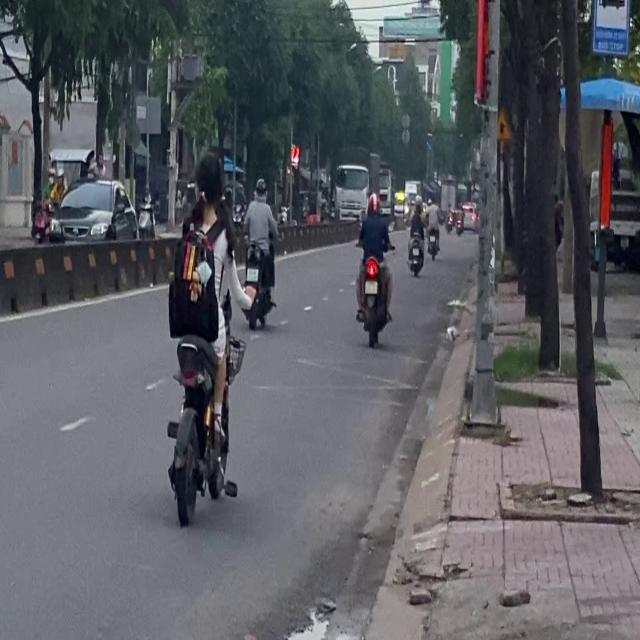licenseplate: (162, 143, 247, 529)
motorcyclist: (193, 151, 224, 210)
